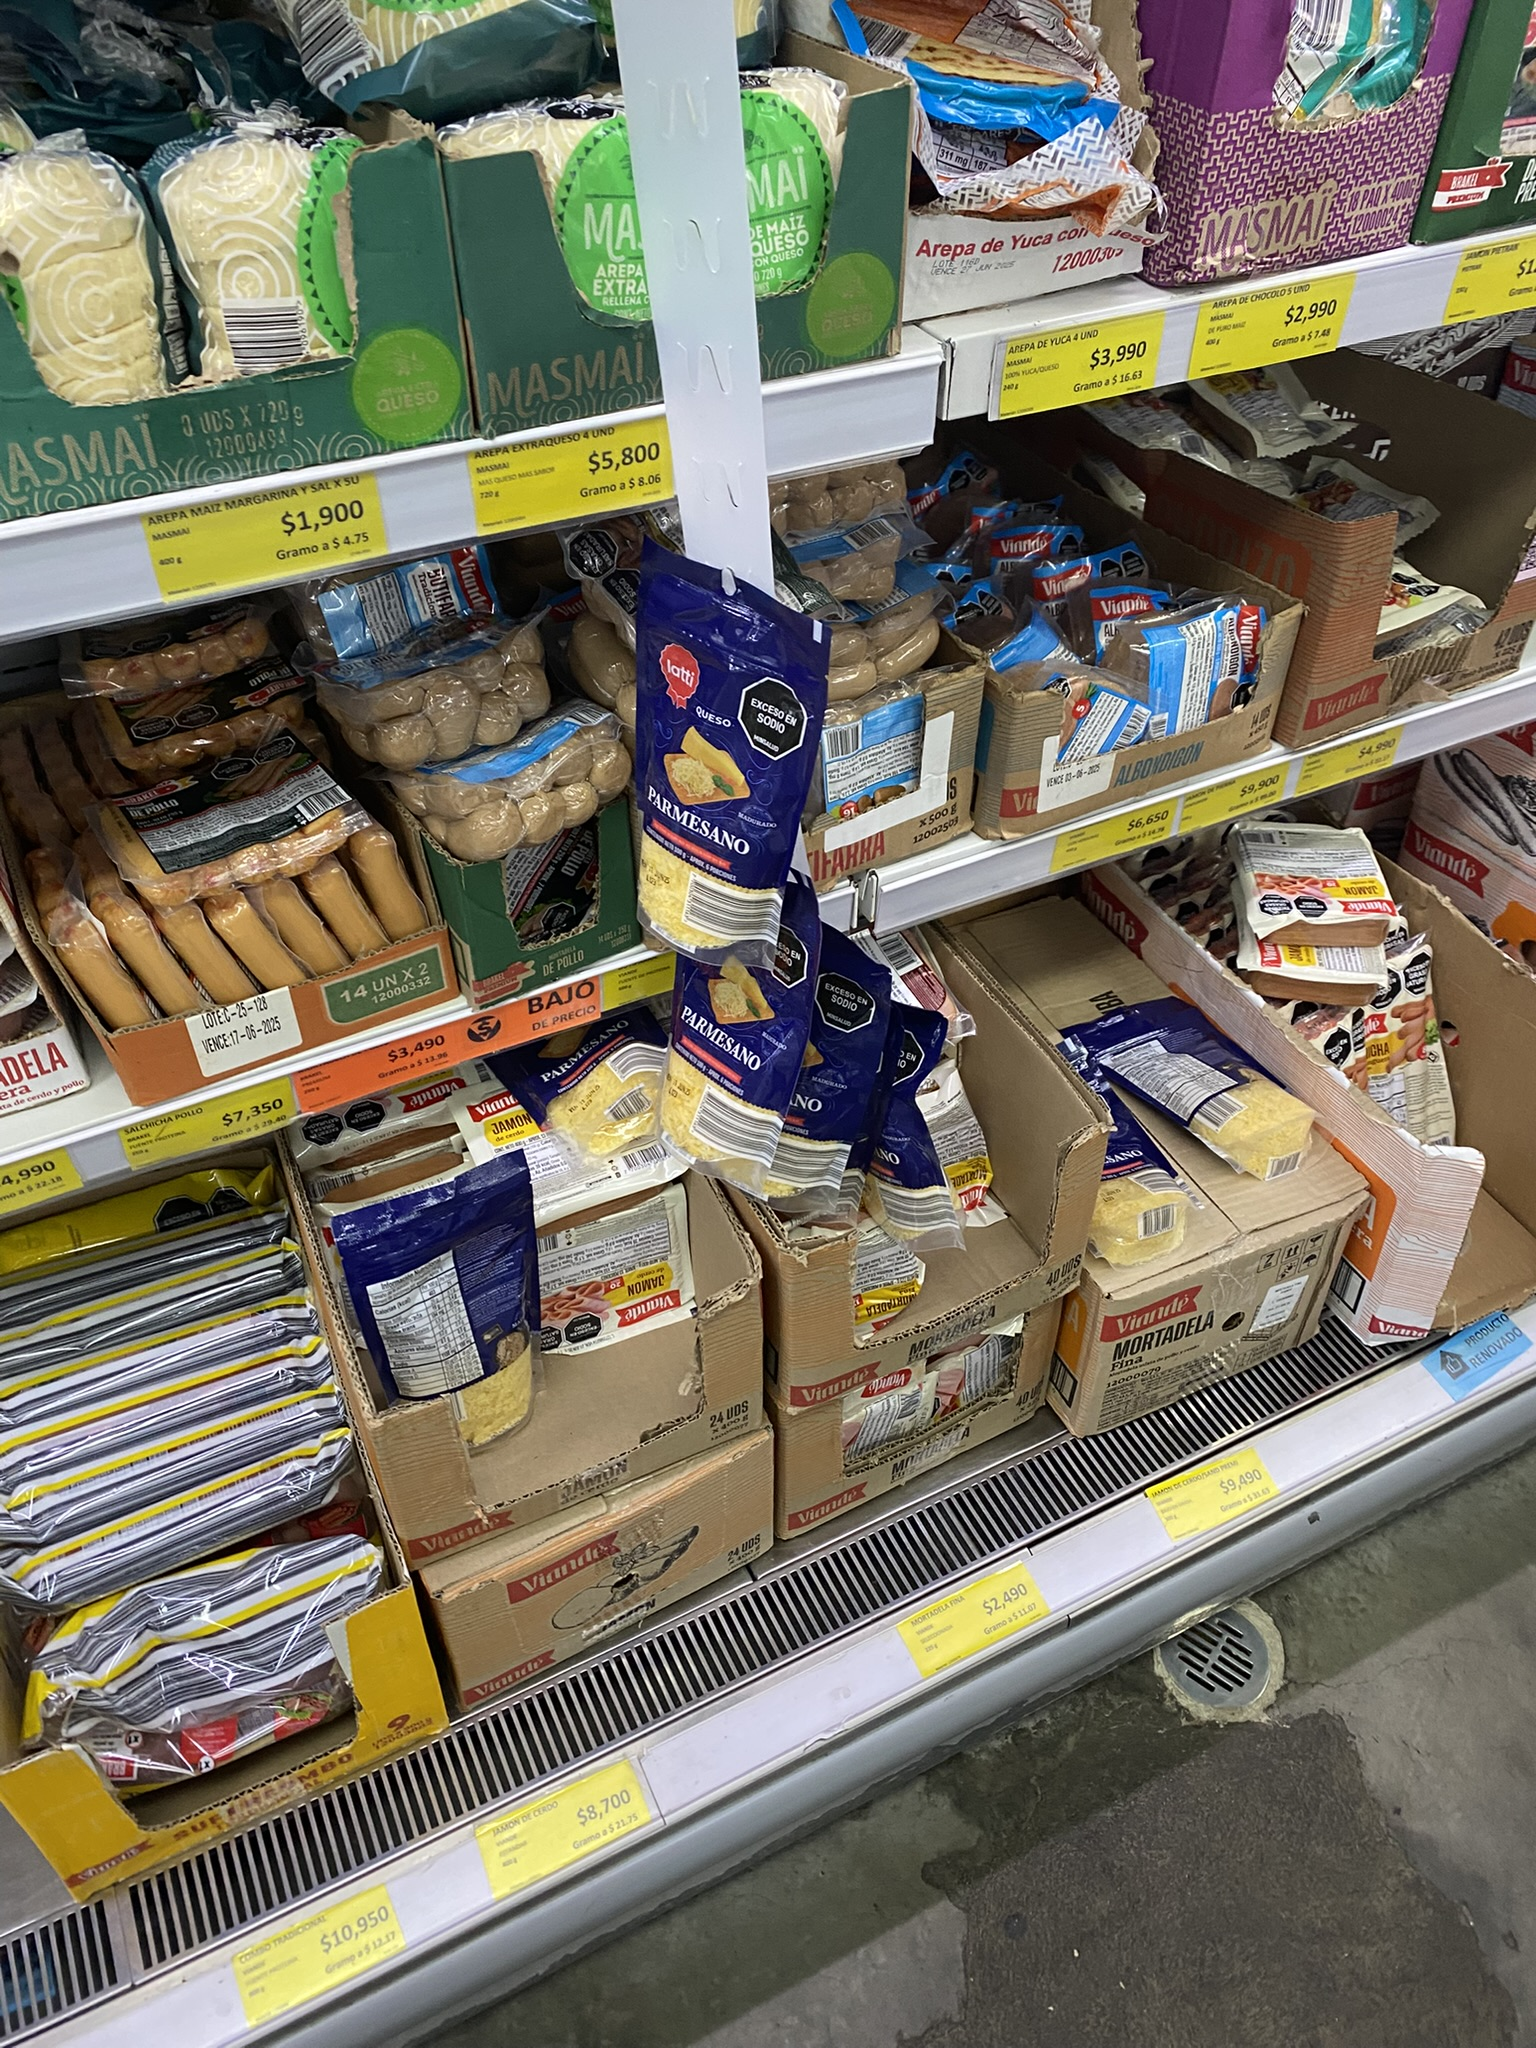Queso Parmesano: (626, 543, 841, 951), (326, 1155, 553, 1442), (1065, 993, 1336, 1169), (673, 866, 805, 1184), (779, 911, 887, 1216), (858, 984, 966, 1243)
